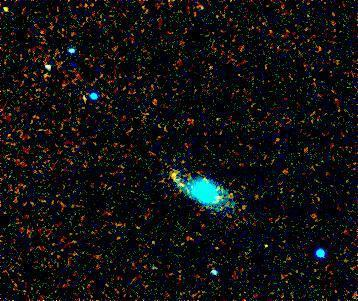star: (159, 161, 189, 191)
